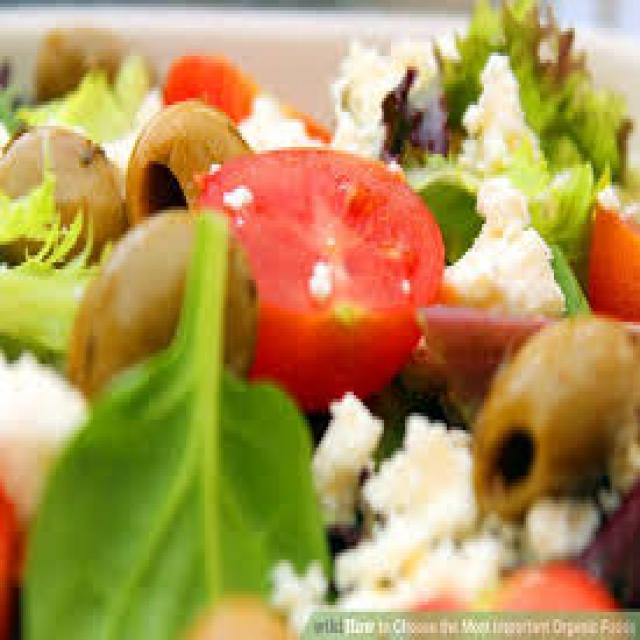organic waste: (16, 210, 333, 636), (198, 143, 442, 406), (68, 203, 258, 409), (472, 304, 638, 521), (433, 7, 628, 175), (307, 556, 617, 637), (416, 175, 588, 308), (414, 161, 608, 262), (440, 168, 563, 311), (0, 199, 109, 360), (0, 122, 126, 259), (124, 91, 252, 217), (0, 342, 91, 518), (160, 49, 326, 136), (366, 412, 480, 532), (412, 297, 545, 392), (326, 31, 428, 150), (305, 388, 384, 539), (456, 46, 547, 172), (35, 24, 158, 94), (19, 52, 144, 119), (575, 462, 638, 594), (588, 182, 638, 315), (377, 66, 447, 154), (517, 486, 598, 560), (330, 528, 430, 581), (0, 448, 26, 636), (238, 88, 324, 144), (270, 560, 328, 619), (0, 70, 37, 126)
